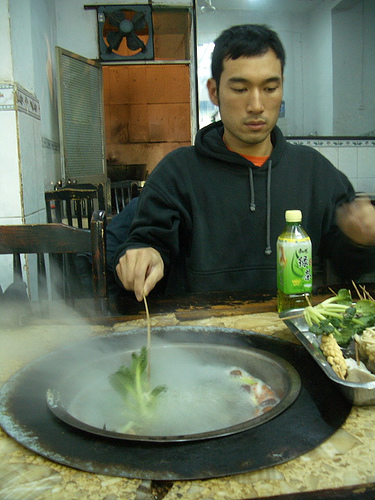without_mask: (212, 43, 288, 145)
